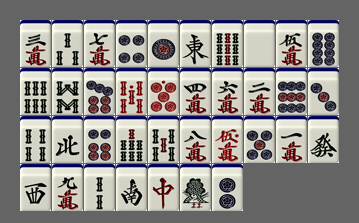0m: (212, 116, 243, 163)
0p: (148, 68, 179, 115)
0s: (116, 68, 147, 115)
1m: (276, 116, 307, 163)
1p: (148, 20, 179, 67)
1s: (180, 164, 211, 211)
1z: (180, 20, 211, 67)
2m: (244, 68, 275, 115)
2p: (212, 164, 243, 211)
2s: (84, 164, 115, 211)
2z: (116, 164, 147, 211)
3m: (20, 20, 51, 67)
3p: (308, 68, 339, 115)
3s: (52, 20, 83, 67)
3z: (20, 164, 51, 211)
4m: (180, 68, 211, 115)
4p: (116, 20, 147, 67)
4s: (20, 116, 51, 163)
4z: (52, 116, 83, 163)
5m: (276, 20, 307, 67)
5p: (244, 116, 275, 163)
5s: (148, 116, 179, 163)
5z: (244, 20, 275, 67)
6m: (212, 68, 243, 115)
6p: (84, 116, 115, 163)
6s: (20, 68, 51, 115)
6z: (308, 116, 339, 163)
7m: (84, 20, 115, 67)
7p: (84, 68, 115, 115)
7s: (116, 116, 147, 163)
7z: (148, 164, 179, 211)
8m: (180, 116, 211, 163)
8p: (308, 20, 339, 67)
8s: (52, 68, 83, 115)
9m: (52, 164, 83, 211)
9p: (276, 68, 307, 115)
9s: (212, 20, 243, 67)
